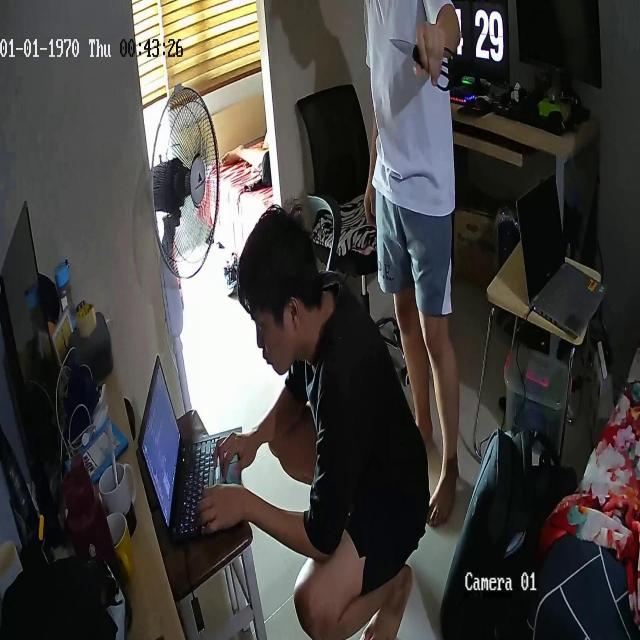scissor: (391, 37, 455, 93)
